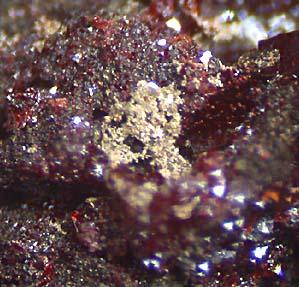silver: (0, 0, 299, 287), (101, 80, 192, 178)
